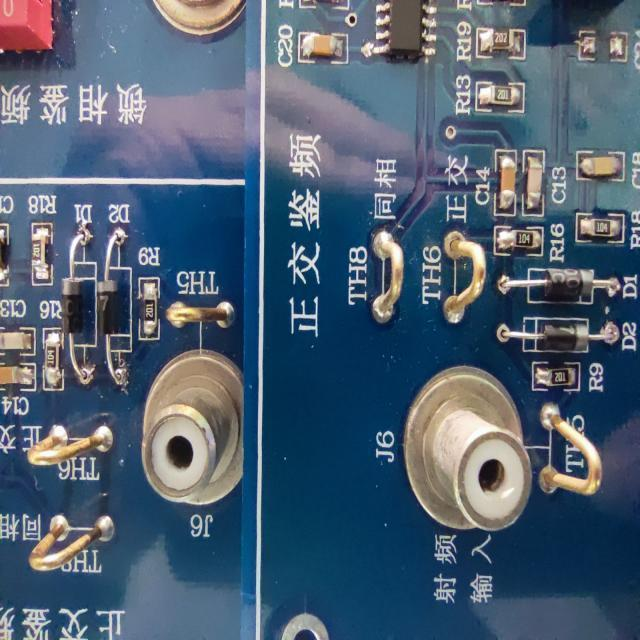Missing component: (572, 20, 640, 72)
